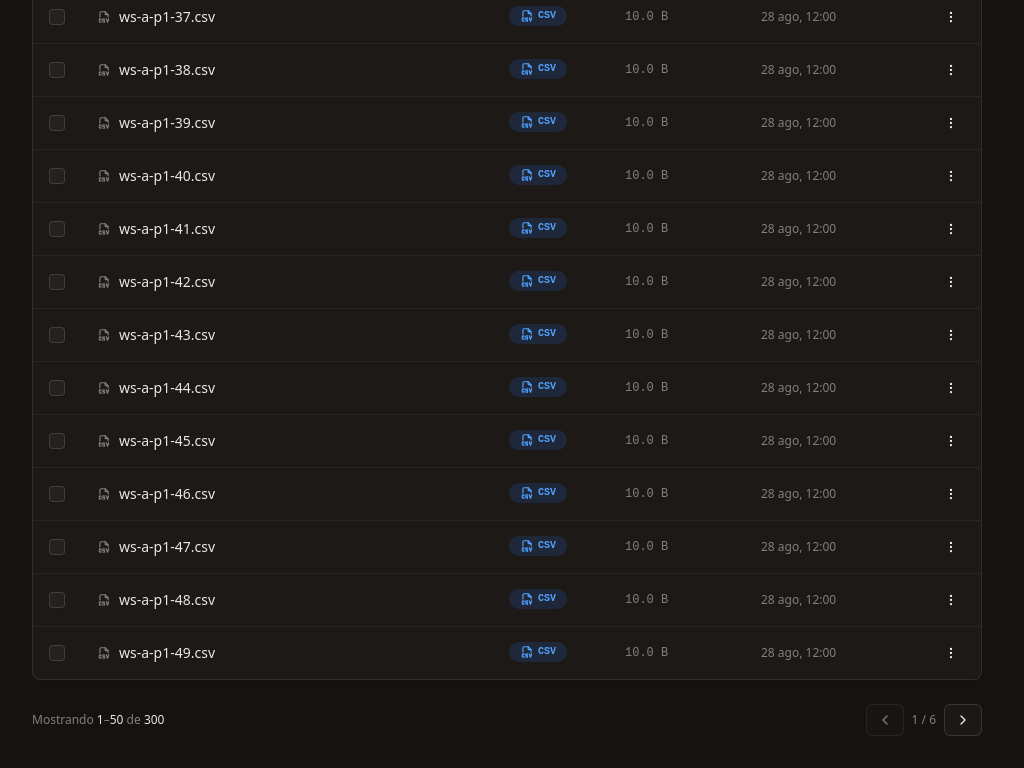
it: Drive — troca de workspace › volta para a primeira página em vez de deixar o usuário numa lista vazia
(page scrolled)
Expected: the text "1 / 6" is shown, [912, 712, 936, 728]
Click the button named "Próxima página". click: (963, 720)
box: [944, 704, 982, 736]
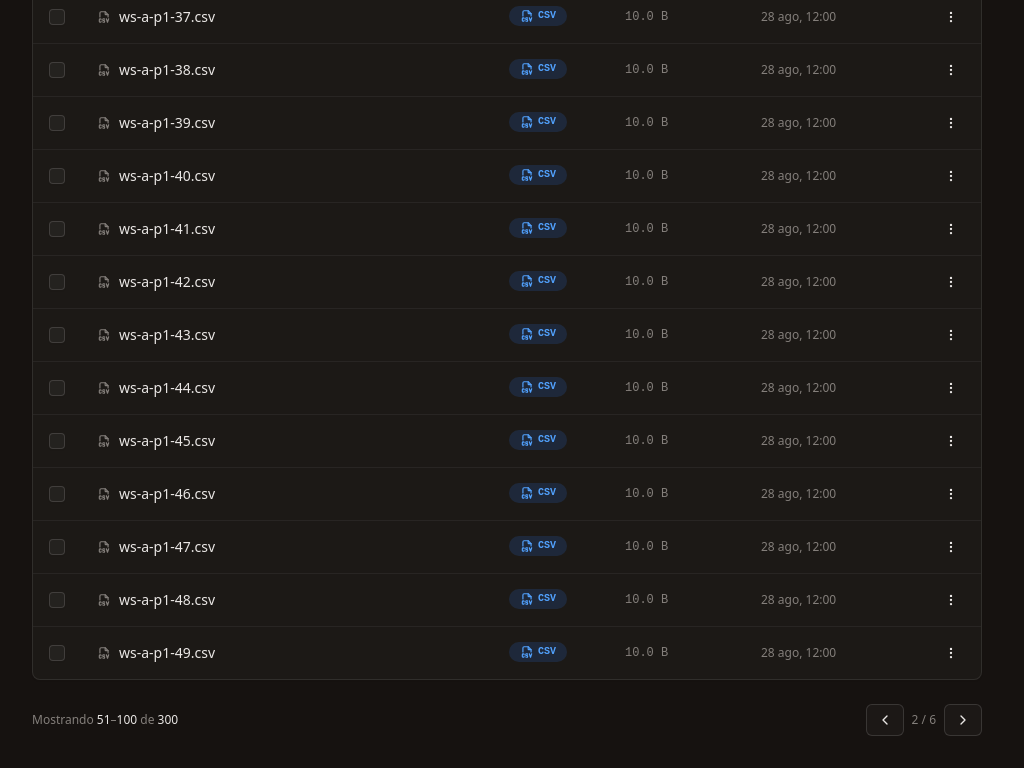
Result: the text "2 / 6" is shown at [912, 712, 936, 728]
Click the button named "Próxima página". click: (963, 720)
box: [944, 704, 982, 736]
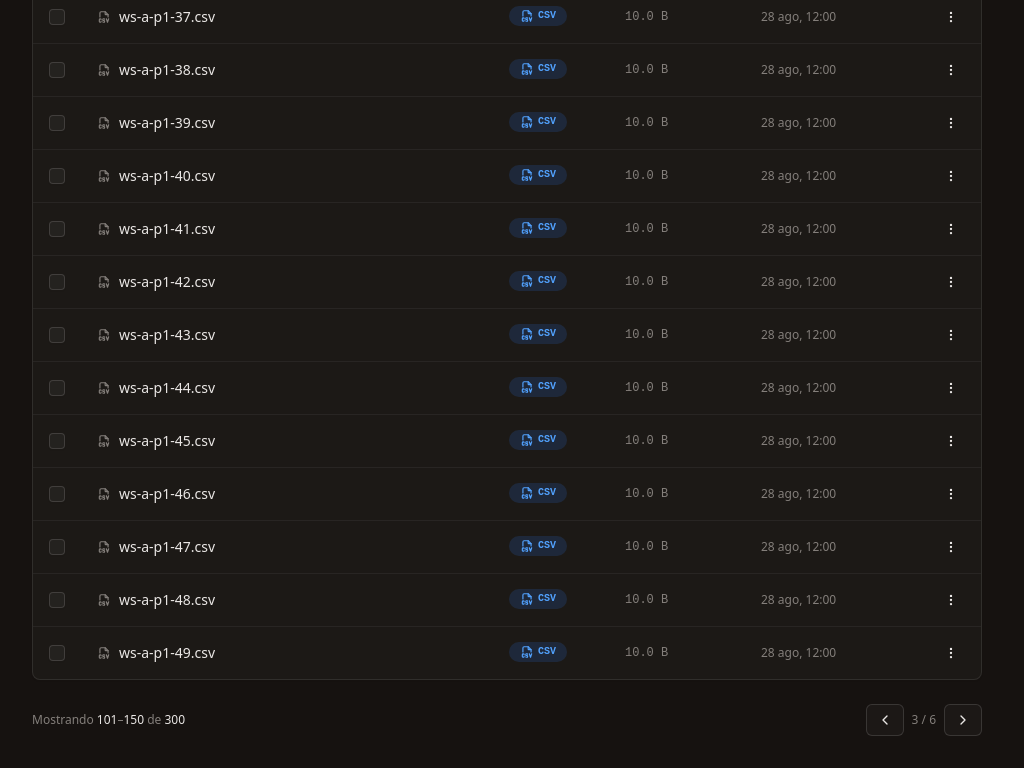
Result: the text "3 / 6" is shown at [912, 712, 936, 728]
Click the button named "Próxima página". click: (963, 720)
box: [944, 704, 982, 736]
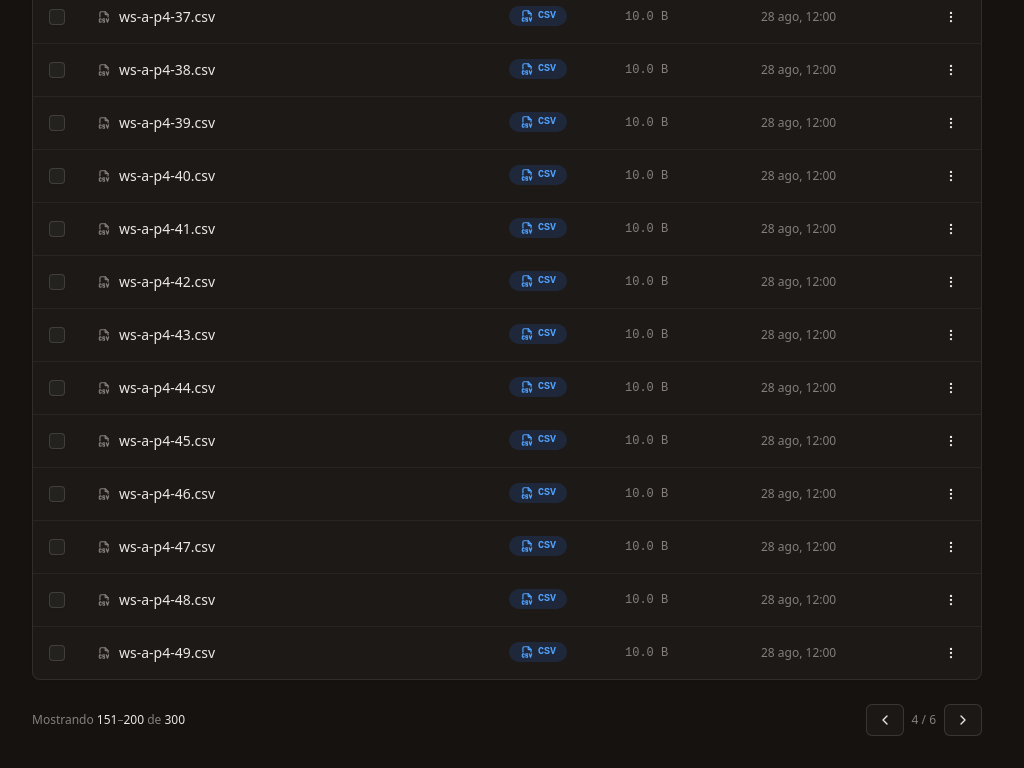
Result: the text "4 / 6" is shown at [912, 712, 936, 728]
